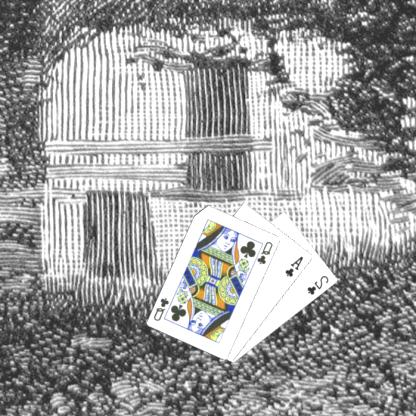2C: (306, 272, 332, 296)
AC: (284, 254, 306, 278)
QC: (256, 238, 276, 266), (153, 295, 172, 322)
